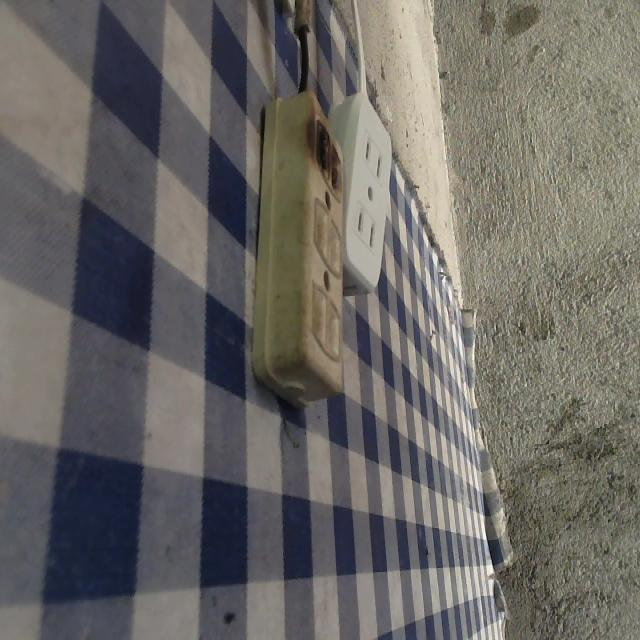-: (298, 107, 409, 249)
